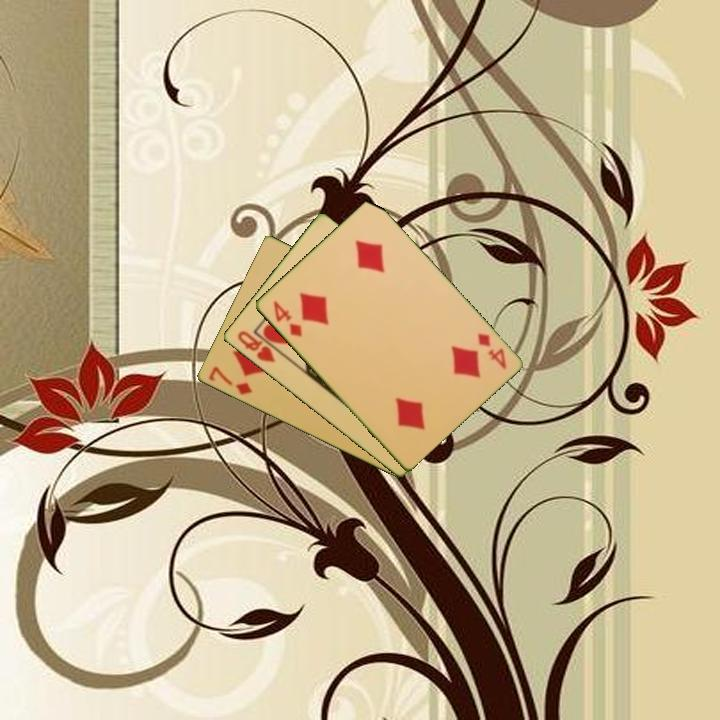4d: (269, 297, 305, 340), (473, 330, 509, 372)
7d: (205, 363, 255, 398)
Qh: (233, 327, 278, 366)
